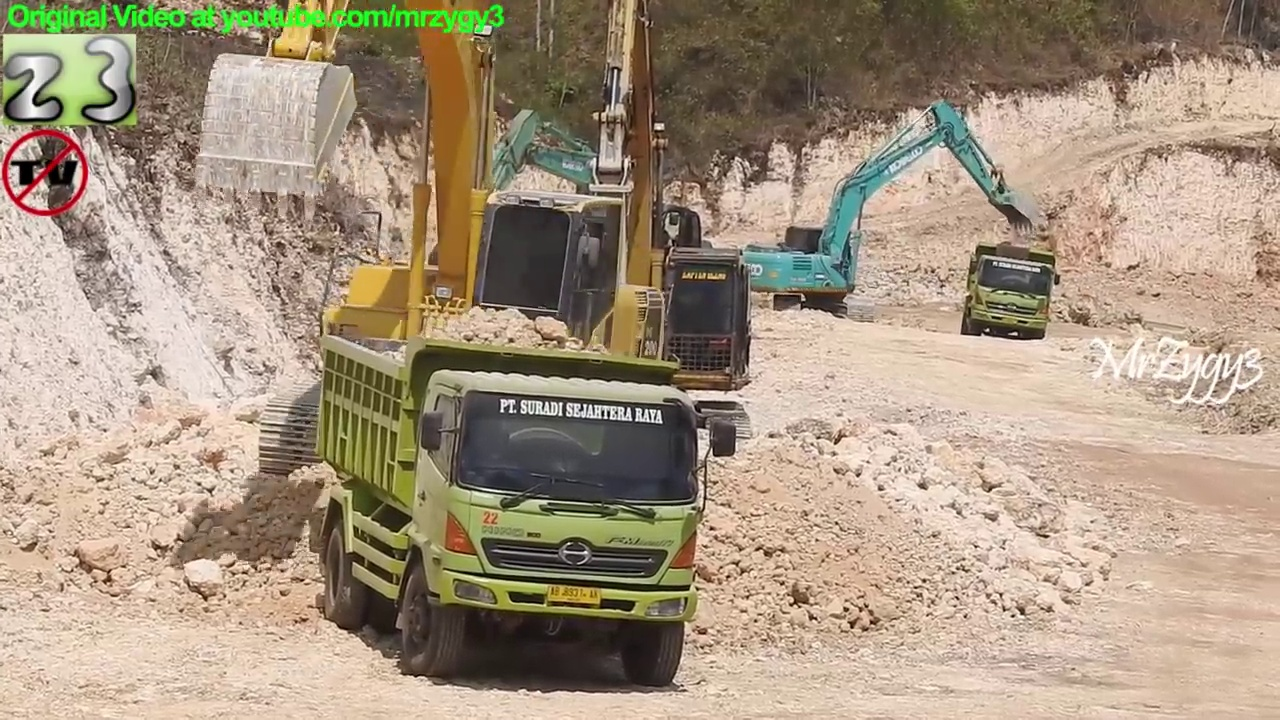excavator: (193, 1, 669, 490), (410, 1, 762, 468), (733, 95, 1047, 312)
truck: (309, 326, 743, 692), (960, 238, 1060, 343)
